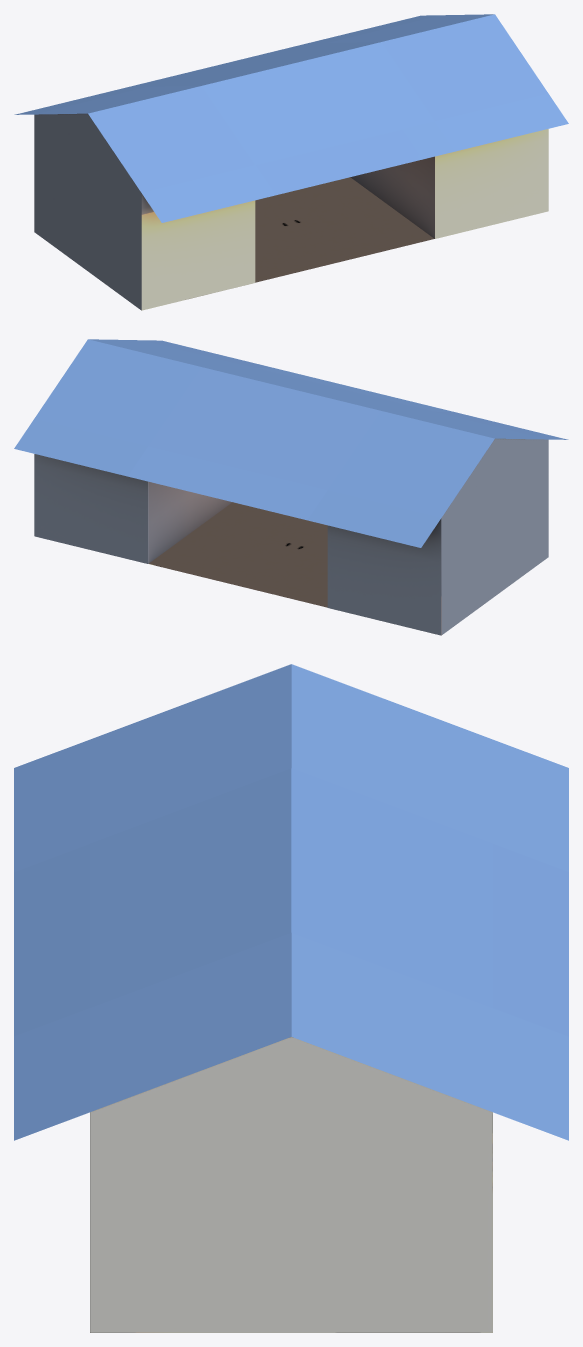
The model's file is entrance3.glb.
3 renders of one model, top to bottom at view 1: azimuth 30°, elevation 25°; view 2: azimuth 150°, elevation 25°; view 3: azimuth 270°, elevation 25°, orthographic. The views are drawn at different scales.
Parts seen in each view (by area): view 1: Cube.002; view 2: Cube.002; view 3: Cube.002.
Part boxes in pixels (<box>): Cube.002: <box>14,14,568,310</box>; Cube.002: <box>14,339,568,635</box>; Cube.002: <box>14,664,568,1332</box>.
Size of the model in its own units: 10.21 by 3.79 by 6.42.
2 materials, 1 textured.
